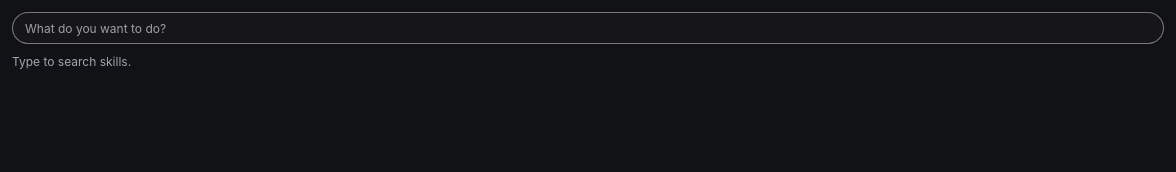
Scenario: SkillPicker › marks blocked skills disabled when context missing
The width and height of the screenshot is (1176, 172).
Step 1. Type "fix error" into the field with test id "skill-intent" → (588, 28), box left=12, top=12, right=1164, bottom=44
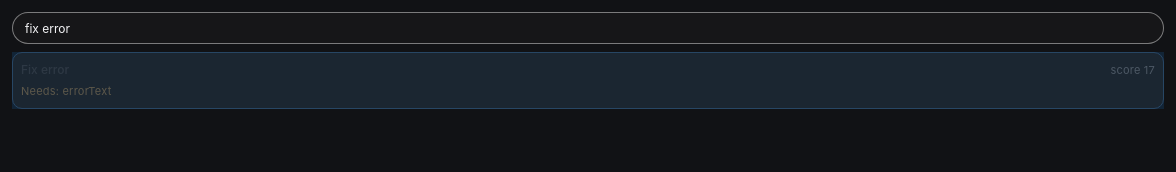
Result: the button with test id "skill-option-fix" is disabled at left=12, top=52, right=1164, bottom=108
Result: the text with test id "skill-missing-fix" shows "errorText" at left=62, top=84, right=112, bottom=98
